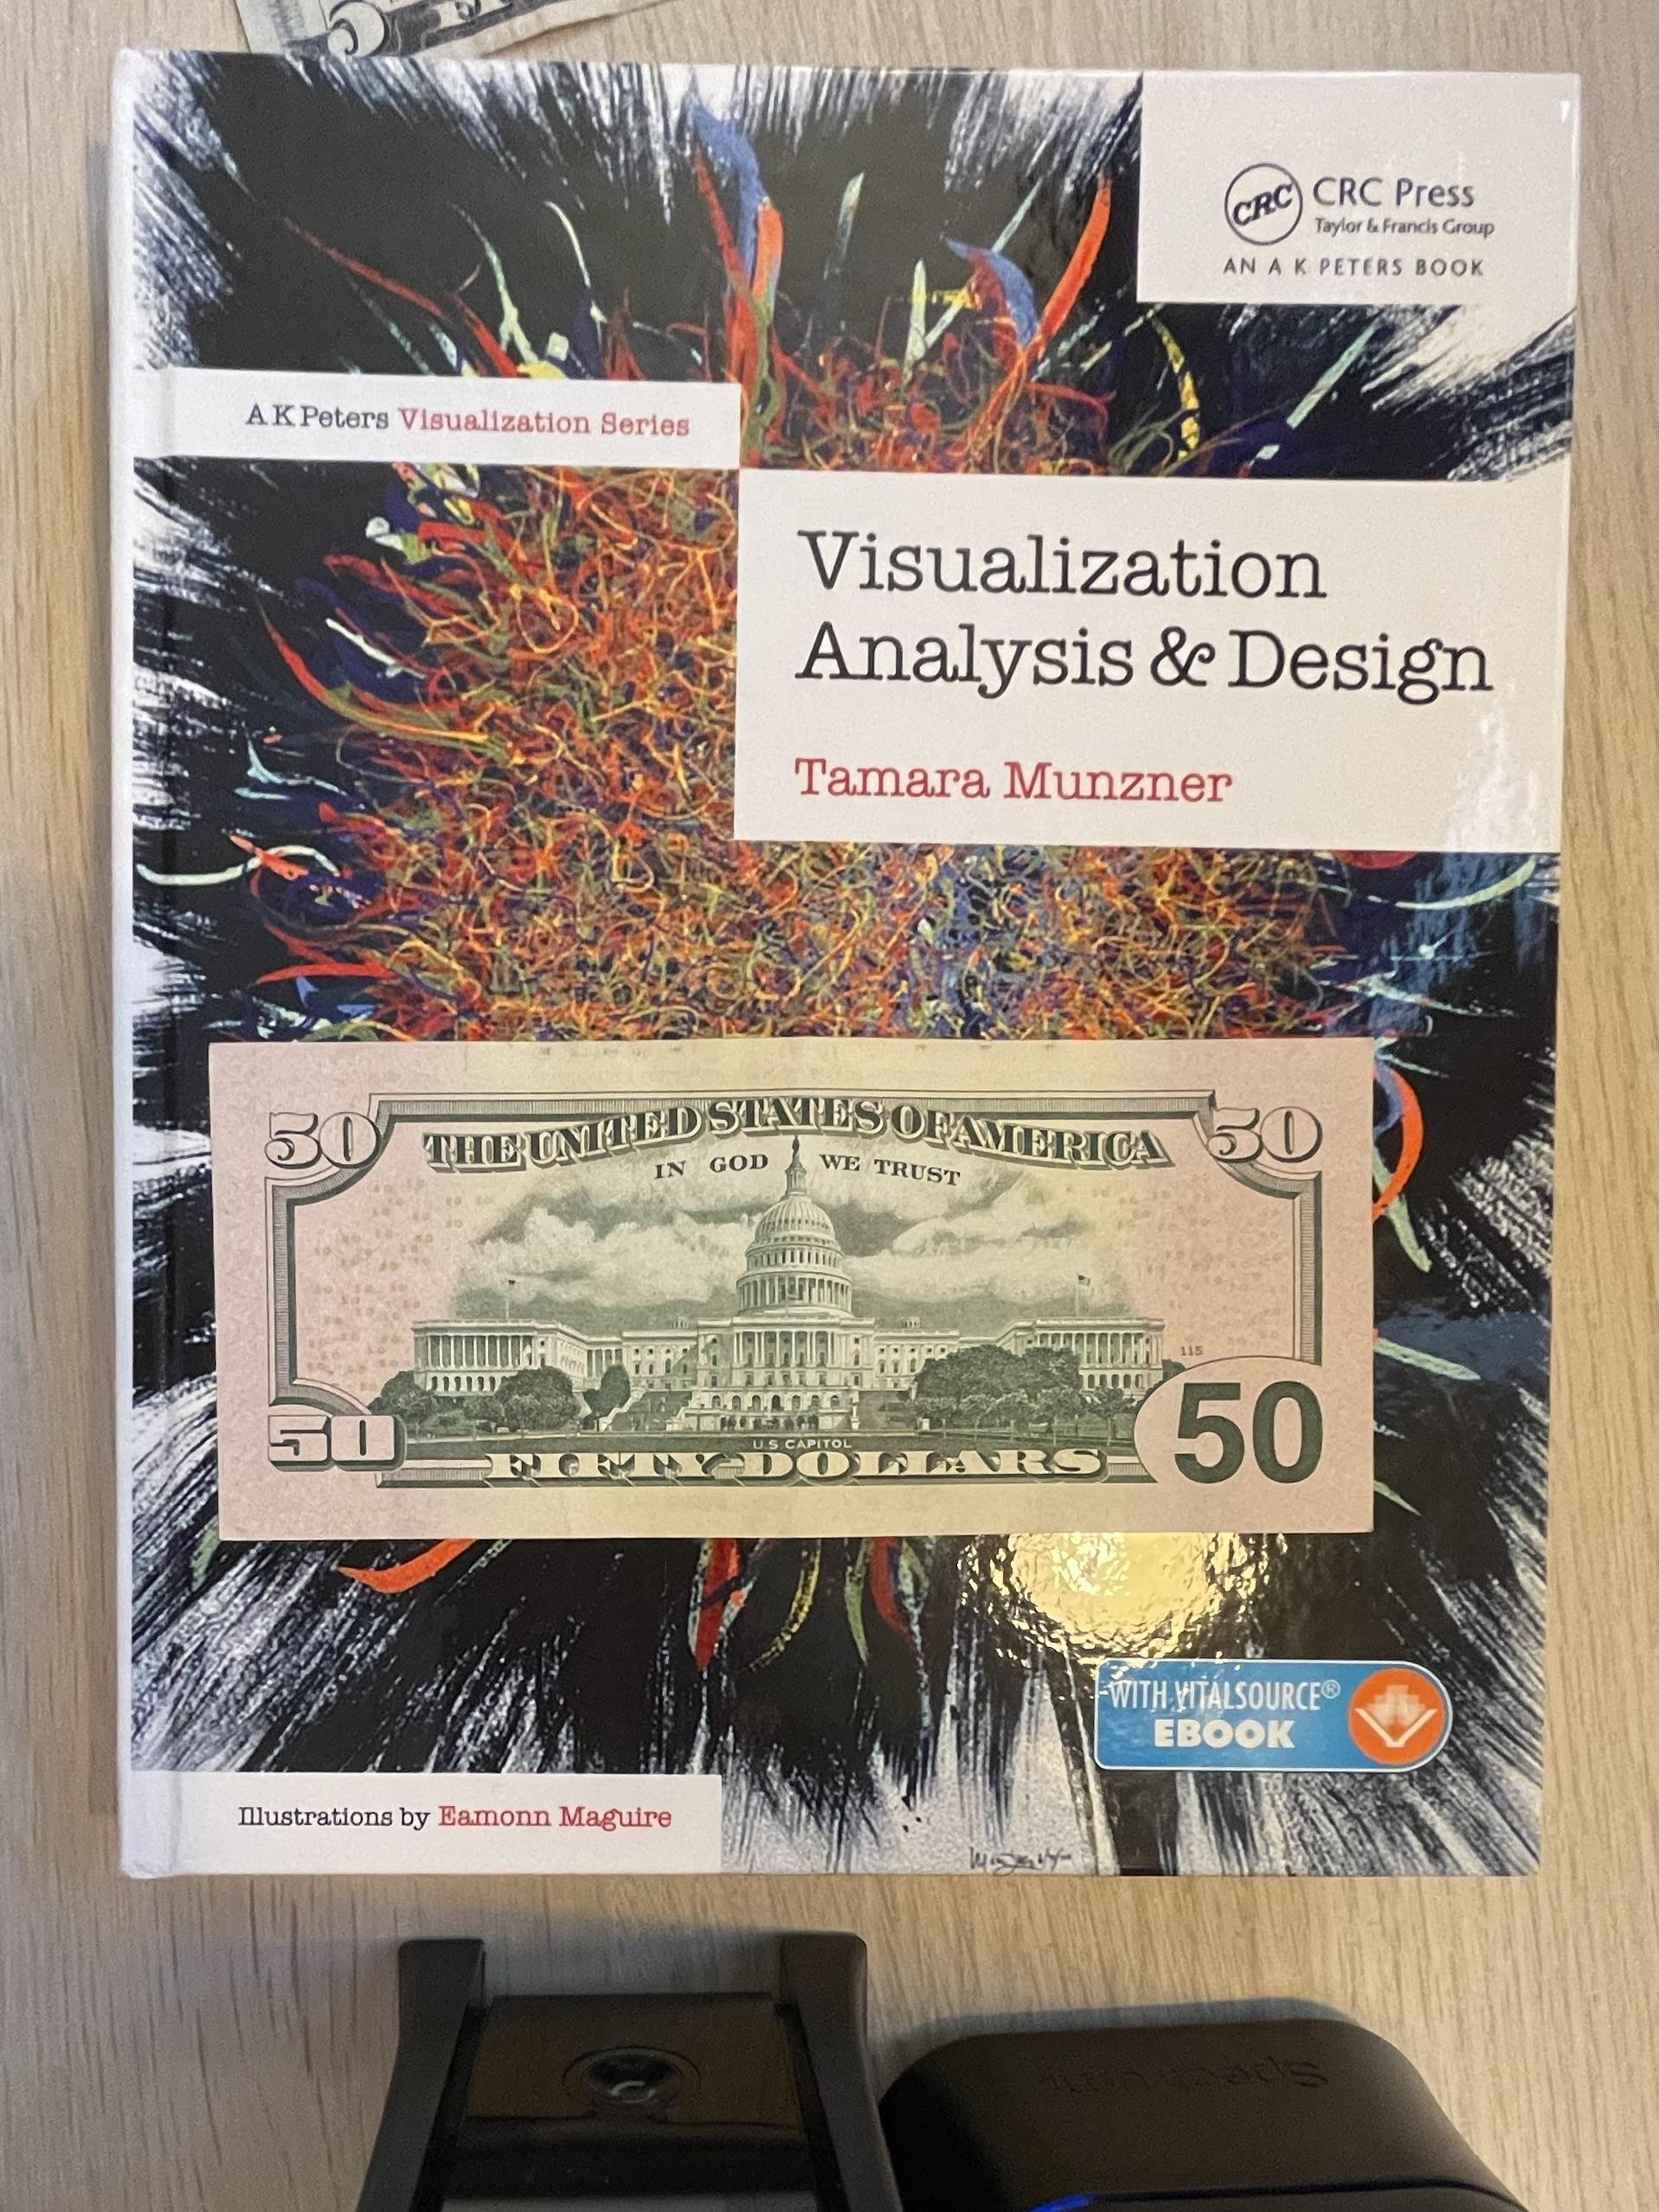FiftyBill: (206, 1036, 1378, 1541)
